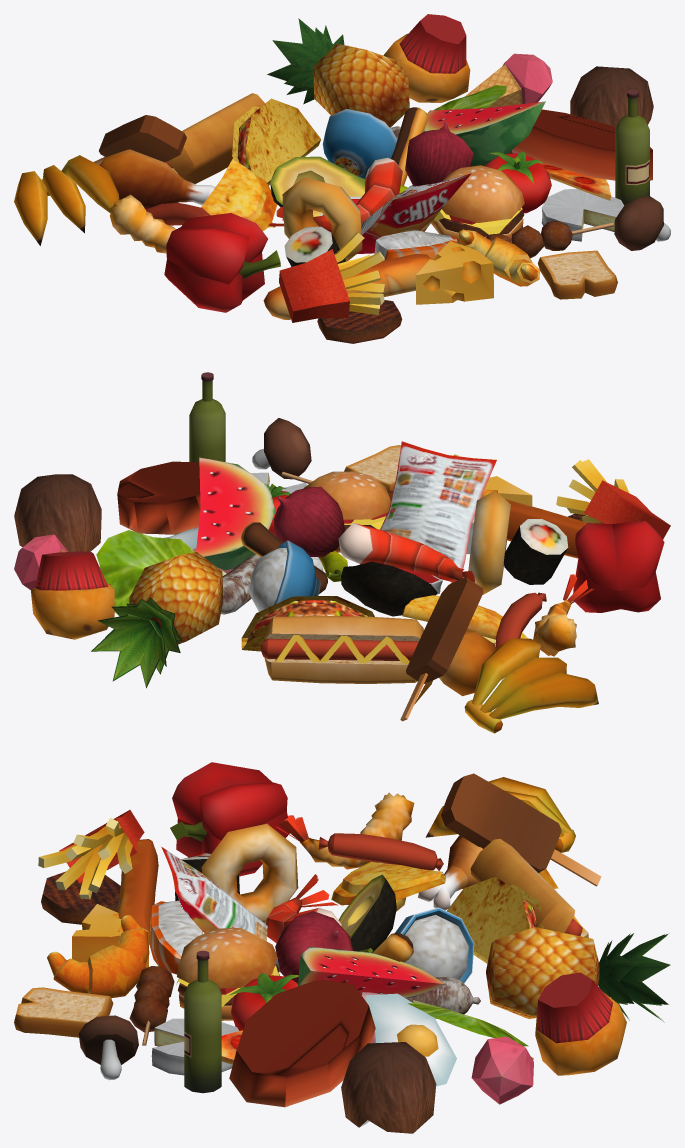
File: Food_Presentation.FBX
3 renders of one model, top to bottom at view 1: azimuth 30°, elevation 25°; view 2: azimuth 150°, elevation 25°; view 3: azimuth 270°, elevation 25°, orthographic. The views are drawn at different scales.
Parts seen in each view (by area): view 1: Food_Presentation; view 2: Food_Presentation; view 3: Food_Presentation.
Boxes of the visible parts, left/top/right/bottom form: Food_Presentation: left=14, top=14, right=670, bottom=343; Food_Presentation: left=14, top=372, right=670, bottom=733; Food_Presentation: left=14, top=762, right=670, bottom=1133.
Size of the model in its own units: 86.64 by 16.9 by 74.82.
